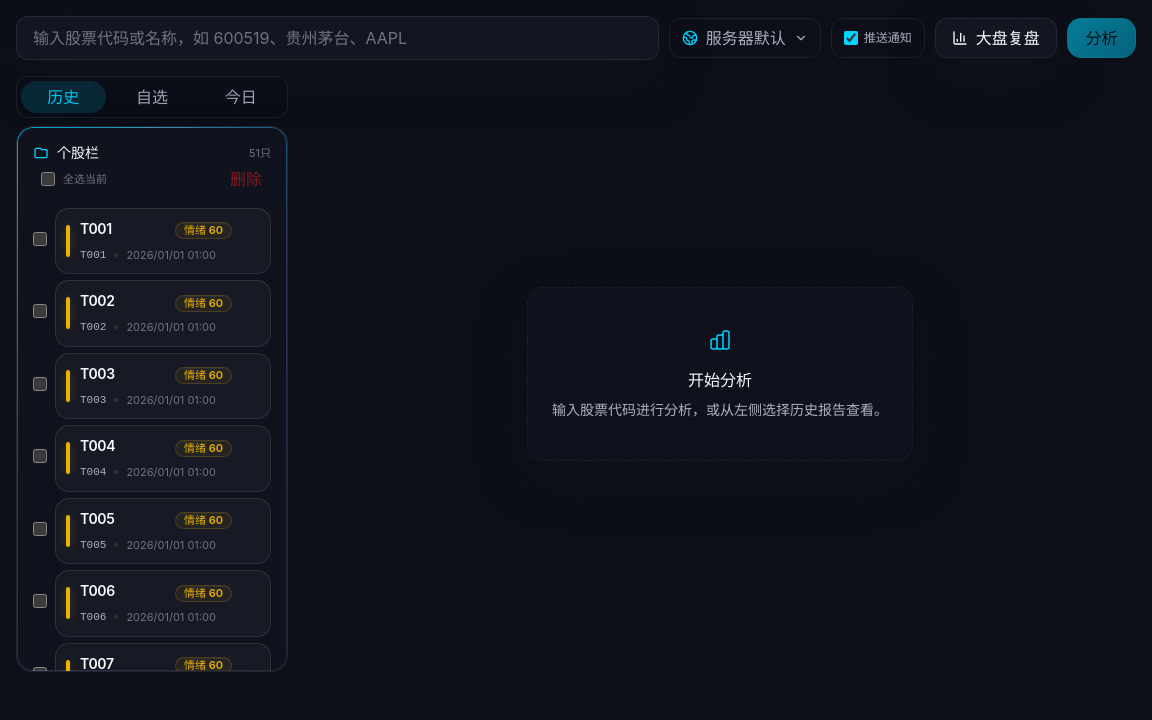
Test: HomePage › submits a watchlist in multiple chunks and reports the confirmed totals
This screenshot has width=1152, height=720.
Click the button "自选".
click(152, 97)  # box [110, 81, 194, 113]
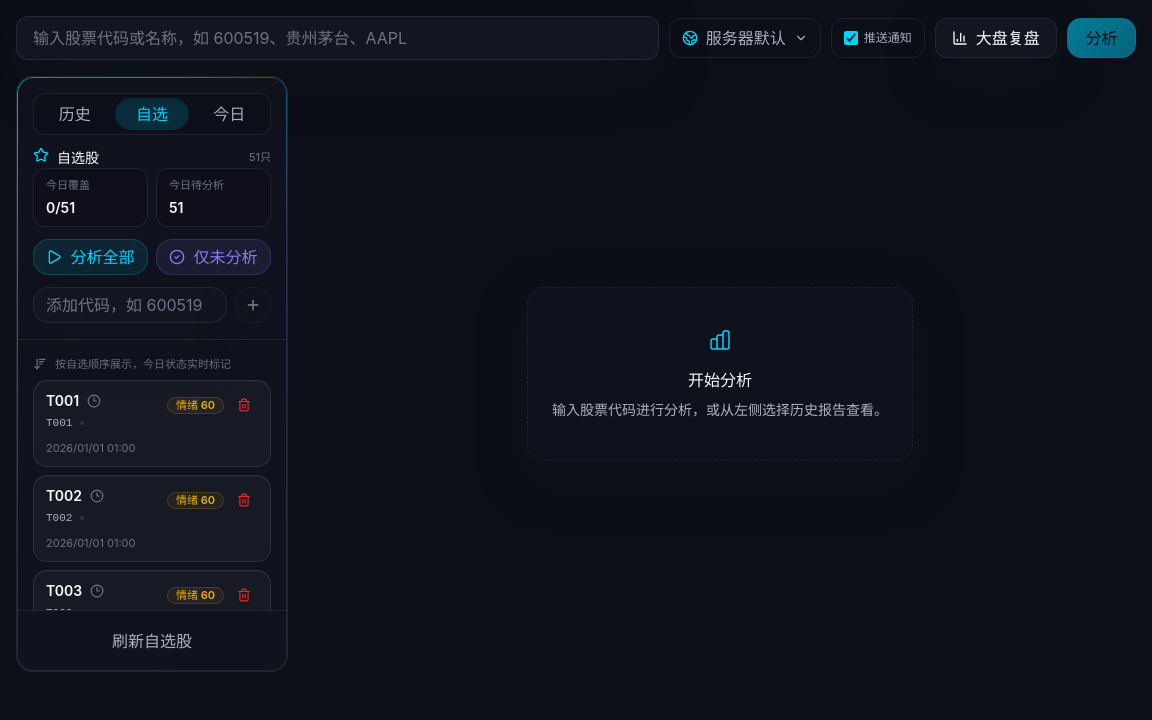
Click the button "分析全部".
click(90, 256)  # box [33, 238, 148, 274]
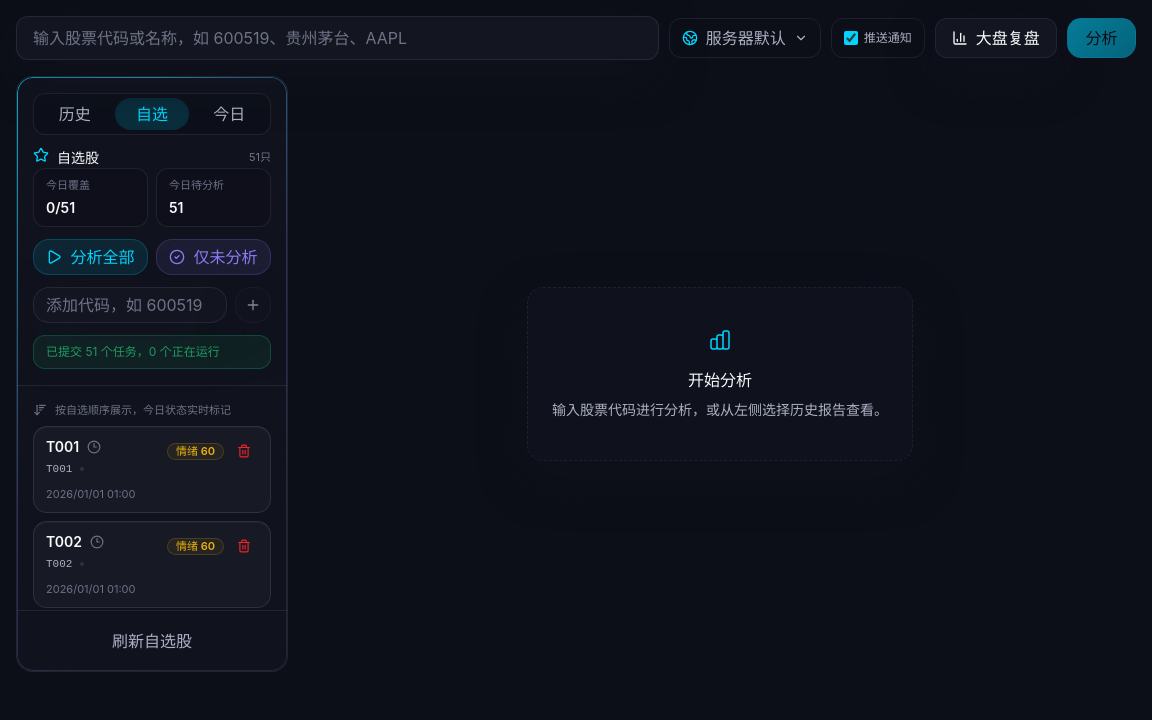
Expected: the text "已提交 51 个任务，0 个正在运行" is shown, [33, 334, 271, 368]
